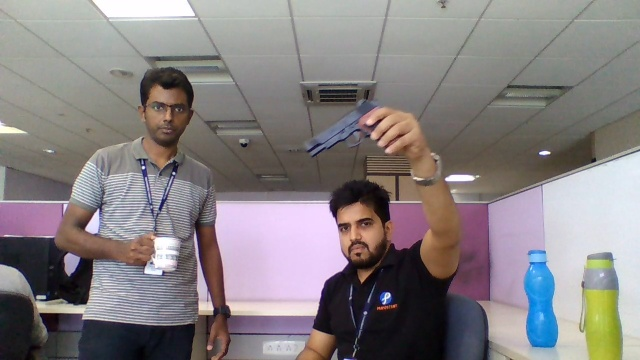gun: (305, 107, 366, 156)
